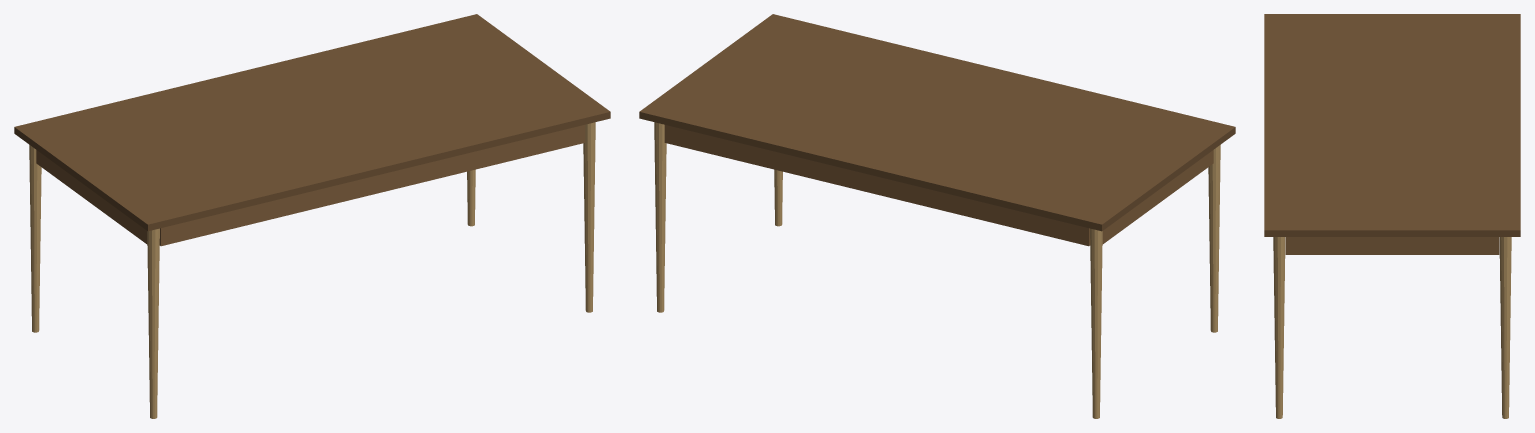
File: ATL-DTB-6-seat.glb
3 views of the same model, side by side, from view 1: azimuth 30°, elevation 25°; view 2: azimuth 150°, elevation 25°; view 3: azimuth 270°, elevation 25° (orthographic). The views are drawn at different scales.
Parts seen in each view (by area): view 1: top:pbr, apron-f:pbr, leg-fl:pbr, leg-fr:pbr, leg-bl:pbr, apron-l:pbr; view 2: top:pbr, apron-b:pbr, leg-bl:pbr, leg-br:pbr, leg-fl:pbr, apron-l:pbr; view 3: top:pbr, apron-r:pbr, leg-fr:pbr, leg-br:pbr.
Part boxes in pixels (x1,y1,x2,y2): top:pbr: (14, 14, 610, 231); apron-f:pbr: (159, 125, 585, 246); leg-fl:pbr: (147, 228, 159, 418); leg-fr:pbr: (583, 122, 595, 312); leg-bl:pbr: (29, 145, 41, 332); apron-l:pbr: (36, 150, 147, 244); top:pbr: (639, 14, 1235, 231); apron-b:pbr: (664, 125, 1090, 246); leg-bl:pbr: (1090, 228, 1102, 418); leg-br:pbr: (654, 122, 666, 312); leg-fl:pbr: (1208, 145, 1220, 332); apron-l:pbr: (1102, 150, 1213, 244); top:pbr: (1264, 14, 1520, 236); apron-r:pbr: (1285, 237, 1499, 254); leg-fr:pbr: (1273, 237, 1285, 418); leg-br:pbr: (1499, 237, 1511, 418).
Size of the model in its own units: 1.8 by 0.75 by 0.9.
